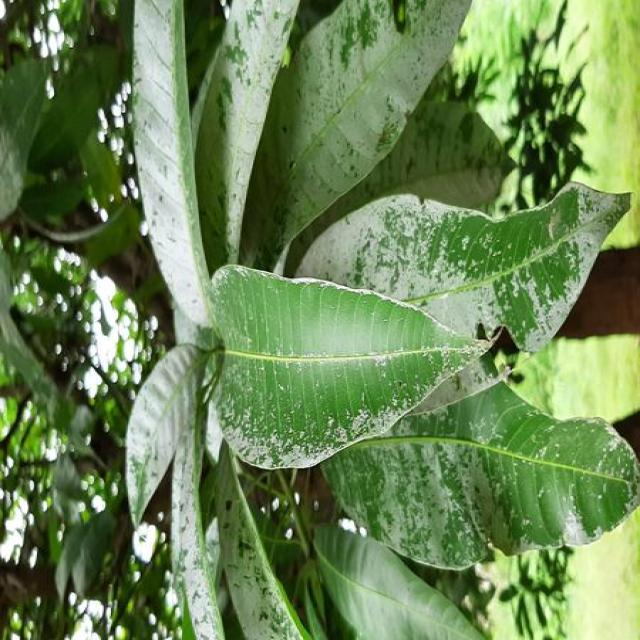Phoma blight: (194, 349, 479, 487), (295, 0, 447, 162), (315, 211, 500, 334), (228, 0, 285, 149), (368, 575, 462, 640)
mango: (127, 0, 635, 640)
